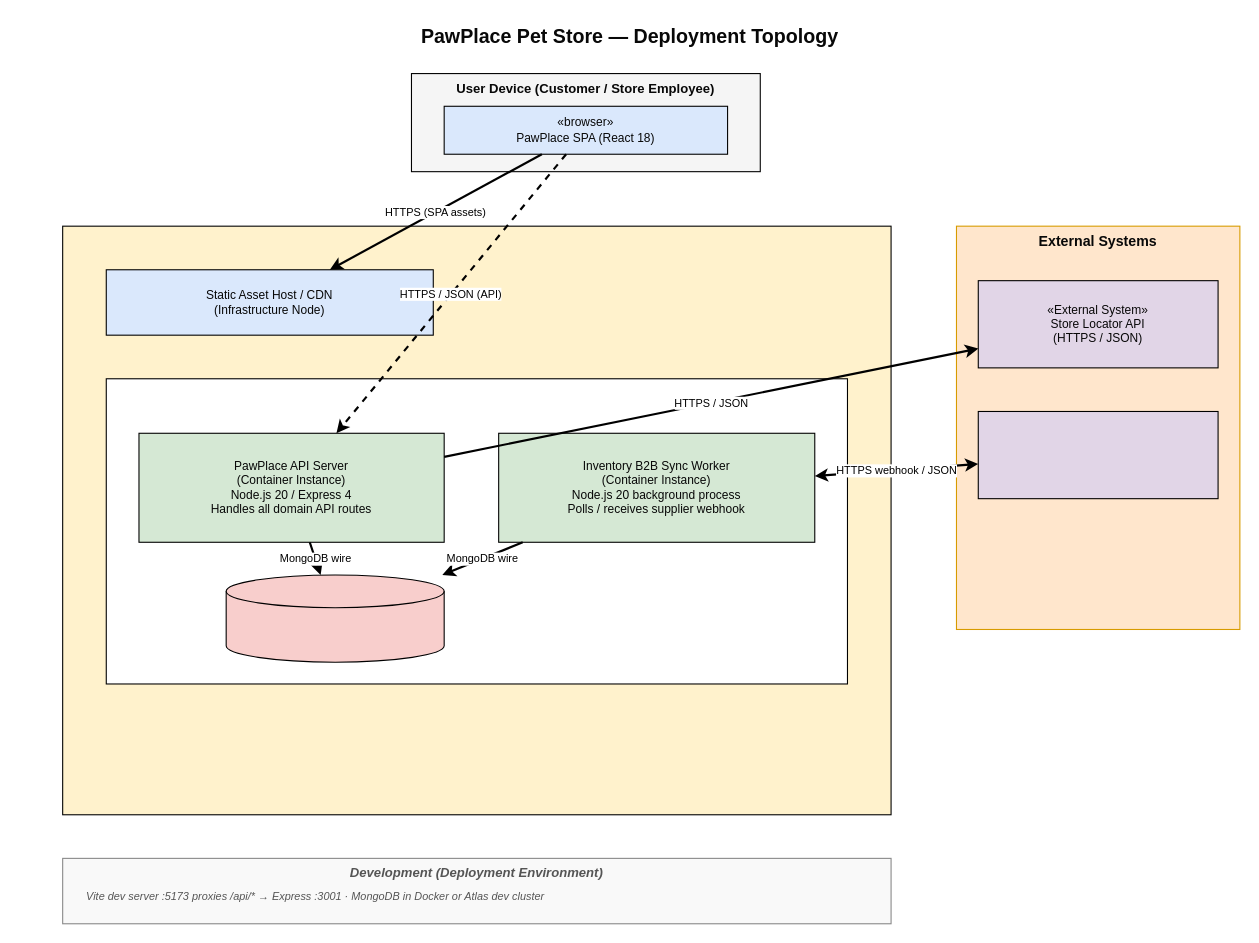
The diagram is 1259 pixels wide and 943 high, and some of its shapes have lost their labels. The shapes that lost their labels are listed below. From the top down, each one's box as (x1, y1, x2, y2) in pixels, then its label:
(977, 410, 1218, 499): «External System» Pet Supplier B2B Feed (HTTPS webhook / JSON)
(105, 378, 847, 684): PaaS Host (Deployment Node)
(62, 225, 891, 815): Production — PaaS Host (Deployment Environment)
(225, 574, 444, 662): MongoDB Atlas (Deployment Node)
